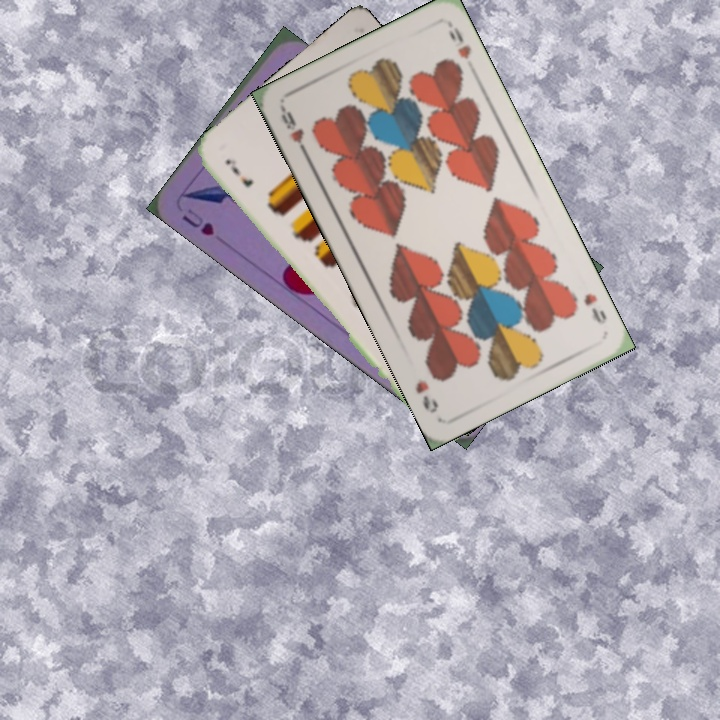E7: (221, 154, 256, 190)
H9: (277, 104, 311, 159), (579, 289, 610, 327)
HU: (178, 208, 217, 239)
